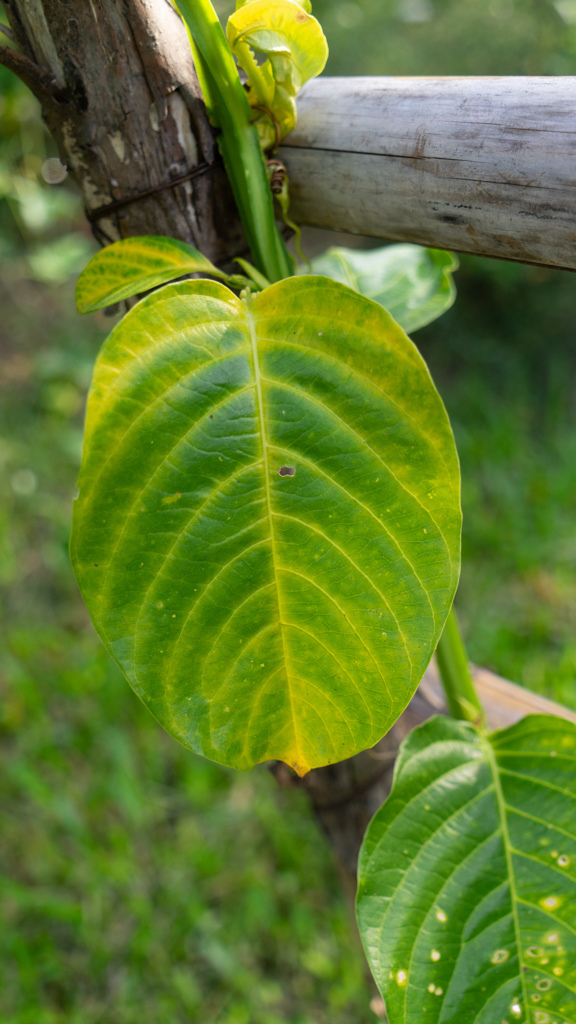Pepper yellow leaf: (80, 283, 467, 775), (372, 814, 570, 1018), (223, 1, 337, 135), (51, 229, 203, 315)
